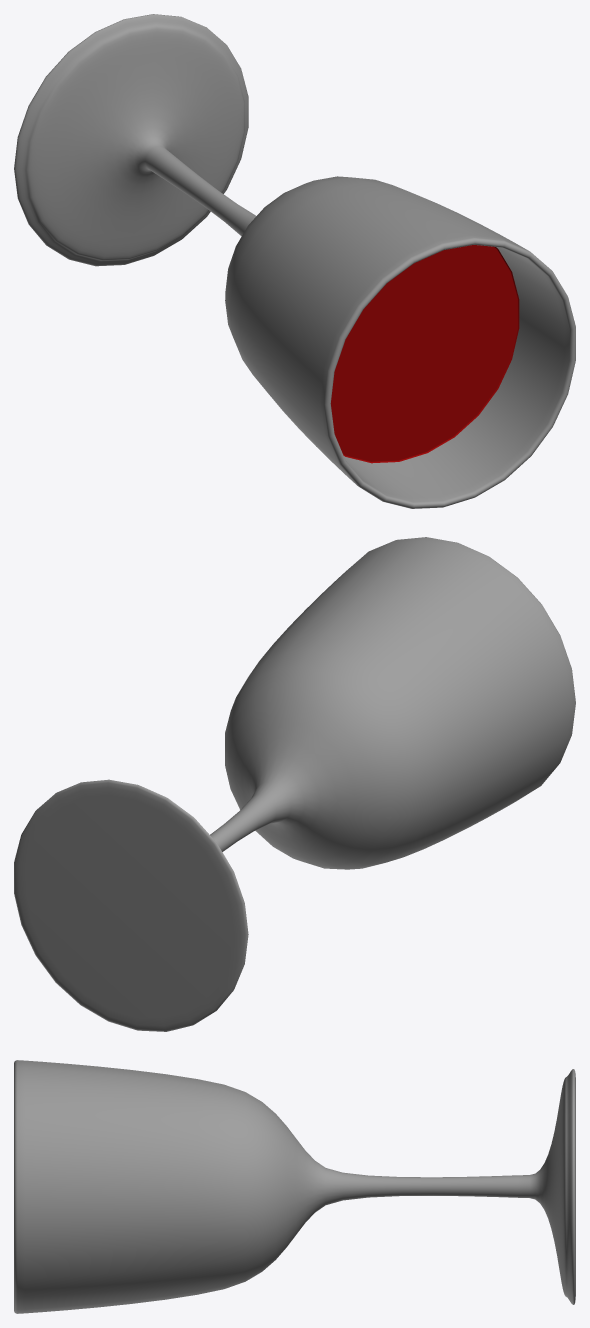
Rendered from glass_wine.obj.
The picture shows the model from 3 angles, top to bottom: view 1: azimuth 30°, elevation 25°; view 2: azimuth 150°, elevation 25°; view 3: azimuth 270°, elevation 25°; orthographic projection. The views are drawn at different scales.
Parts seen in each view (by area): view 1: Line01, liquid; view 2: Line01; view 3: Line01.
Part boxes in pixels (<box>): Line01: <box>14,14,575,508</box>; liquid: <box>330,245,519,463</box>; Line01: <box>14,537,575,1031</box>; Line01: <box>14,1060,575,1313</box>.
Size of the model in its own units: 161 by 161 by 356.
